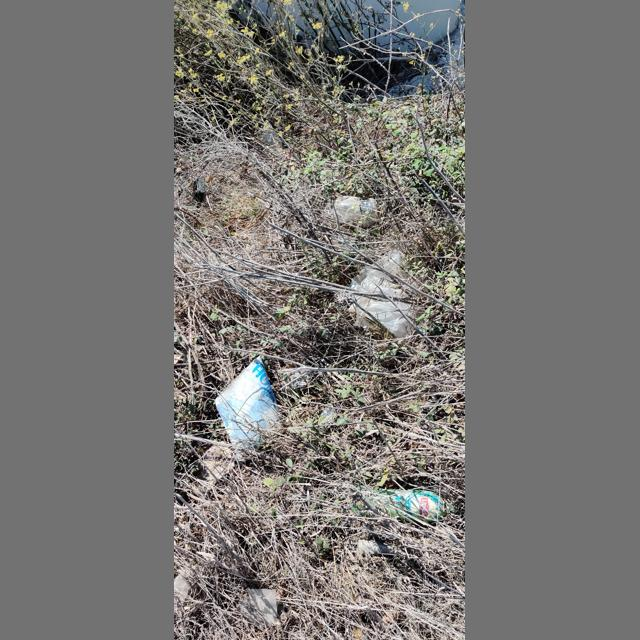litter: (215, 355, 284, 448), (348, 248, 419, 338), (356, 486, 447, 521), (239, 589, 277, 627), (334, 196, 378, 225), (261, 120, 283, 149), (174, 574, 190, 613), (193, 180, 205, 207), (321, 407, 332, 417)
